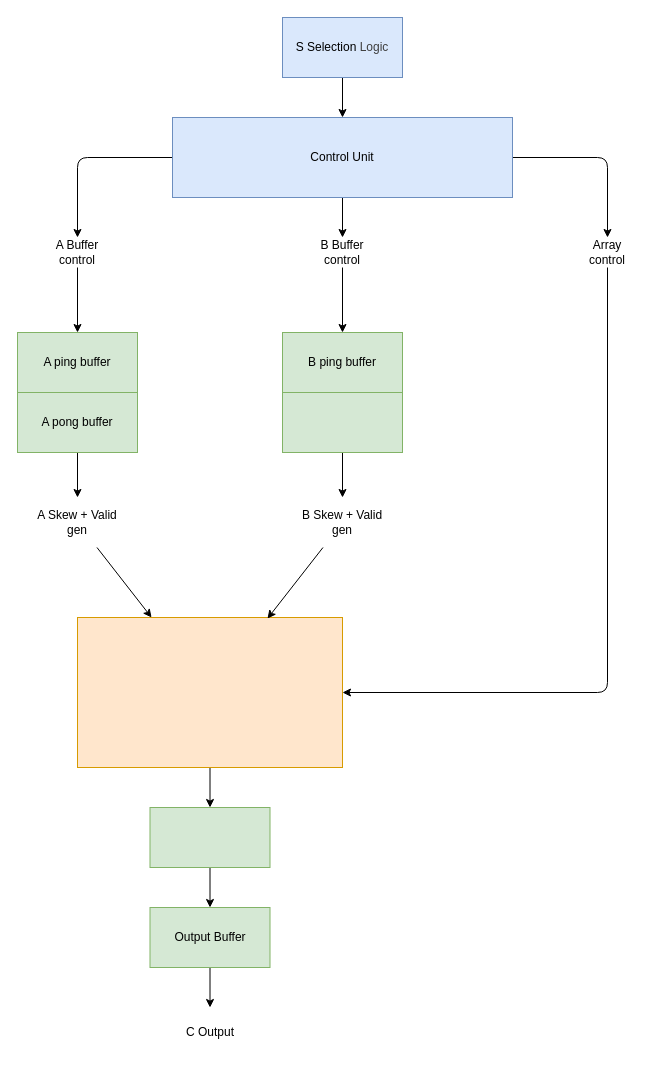
Image size: 655x1075. Some labels were removed from this diagram. Here are the shapes that lost their labels. From the top down, the box of each, then its label:
(282, 392, 402, 452): B pong buffer
(76, 616, 342, 768): S x S Systolic Array
(149, 806, 270, 868): Result Drain
